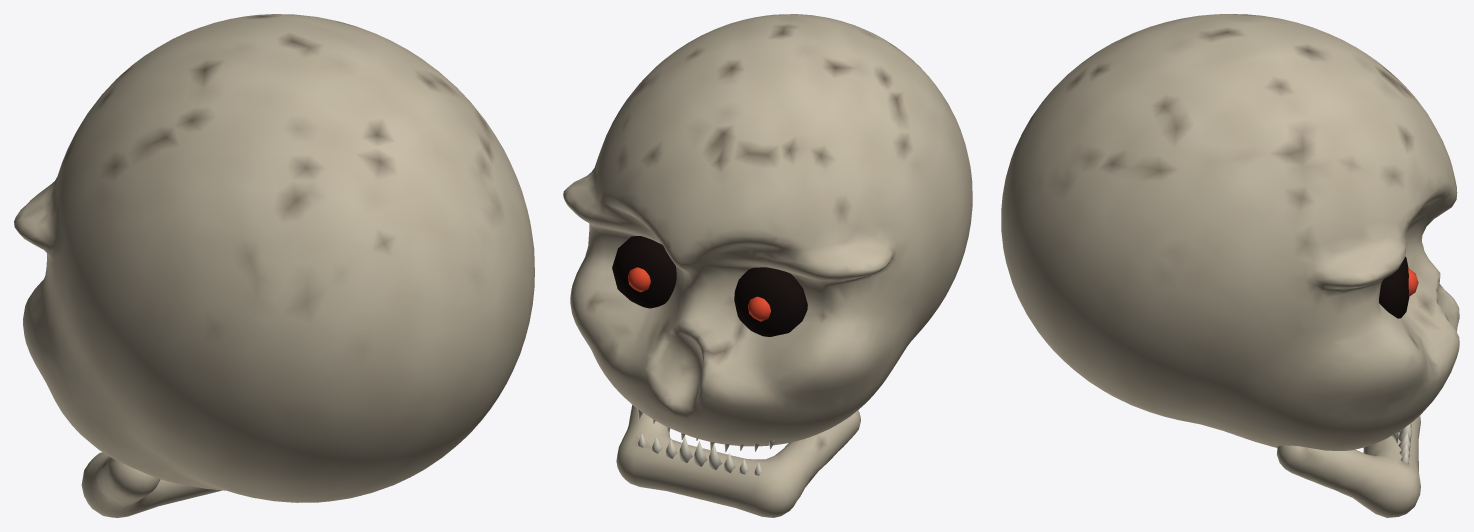
File: skeletron_head.glb
3 views of the same model, side by side, from view 1: azimuth 30°, elevation 25°; view 2: azimuth 150°, elevation 25°; view 3: azimuth 270°, elevation 25° (orthographic). The views are drawn at different scales.
Visible parts, largest first — view 1: skeletron_head; view 2: skeletron_head; view 3: skeletron_head.
Part boxes in pixels (x1=…): skeletron_head: x1=14, y1=14, x2=534, y2=517; skeletron_head: x1=563, y1=14, x2=972, y2=517; skeletron_head: x1=1001, y1=14, x2=1459, y2=517.
Bounding box in the file's own units: 1.94 × 2.38 × 2.2.
